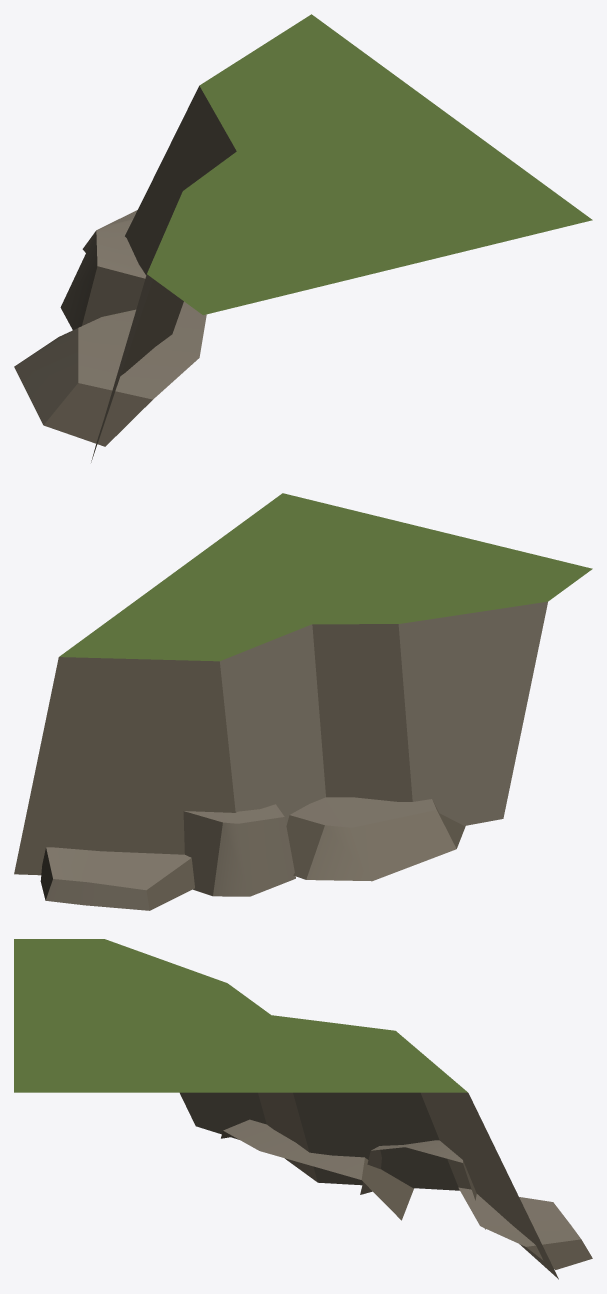
The model's file is SF_Env_CliffEdge_Corner_03.fbx.
3 views of the same model, one above another, from view 1: azimuth 30°, elevation 25°; view 2: azimuth 150°, elevation 25°; view 3: azimuth 270°, elevation 25° (orthographic). The views are drawn at different scales.
Visible parts, largest first — view 1: SF_Env_CliffEdge_Corner_03; view 2: SF_Env_CliffEdge_Corner_03; view 3: SF_Env_CliffEdge_Corner_03.
Boxes of the visible parts, x1,y1,x2,y2 form: SF_Env_CliffEdge_Corner_03: [14, 14, 592, 462]; SF_Env_CliffEdge_Corner_03: [14, 493, 592, 910]; SF_Env_CliffEdge_Corner_03: [14, 939, 592, 1279].
Size of the model in its own units: 10 by 5.82 by 15.93.
